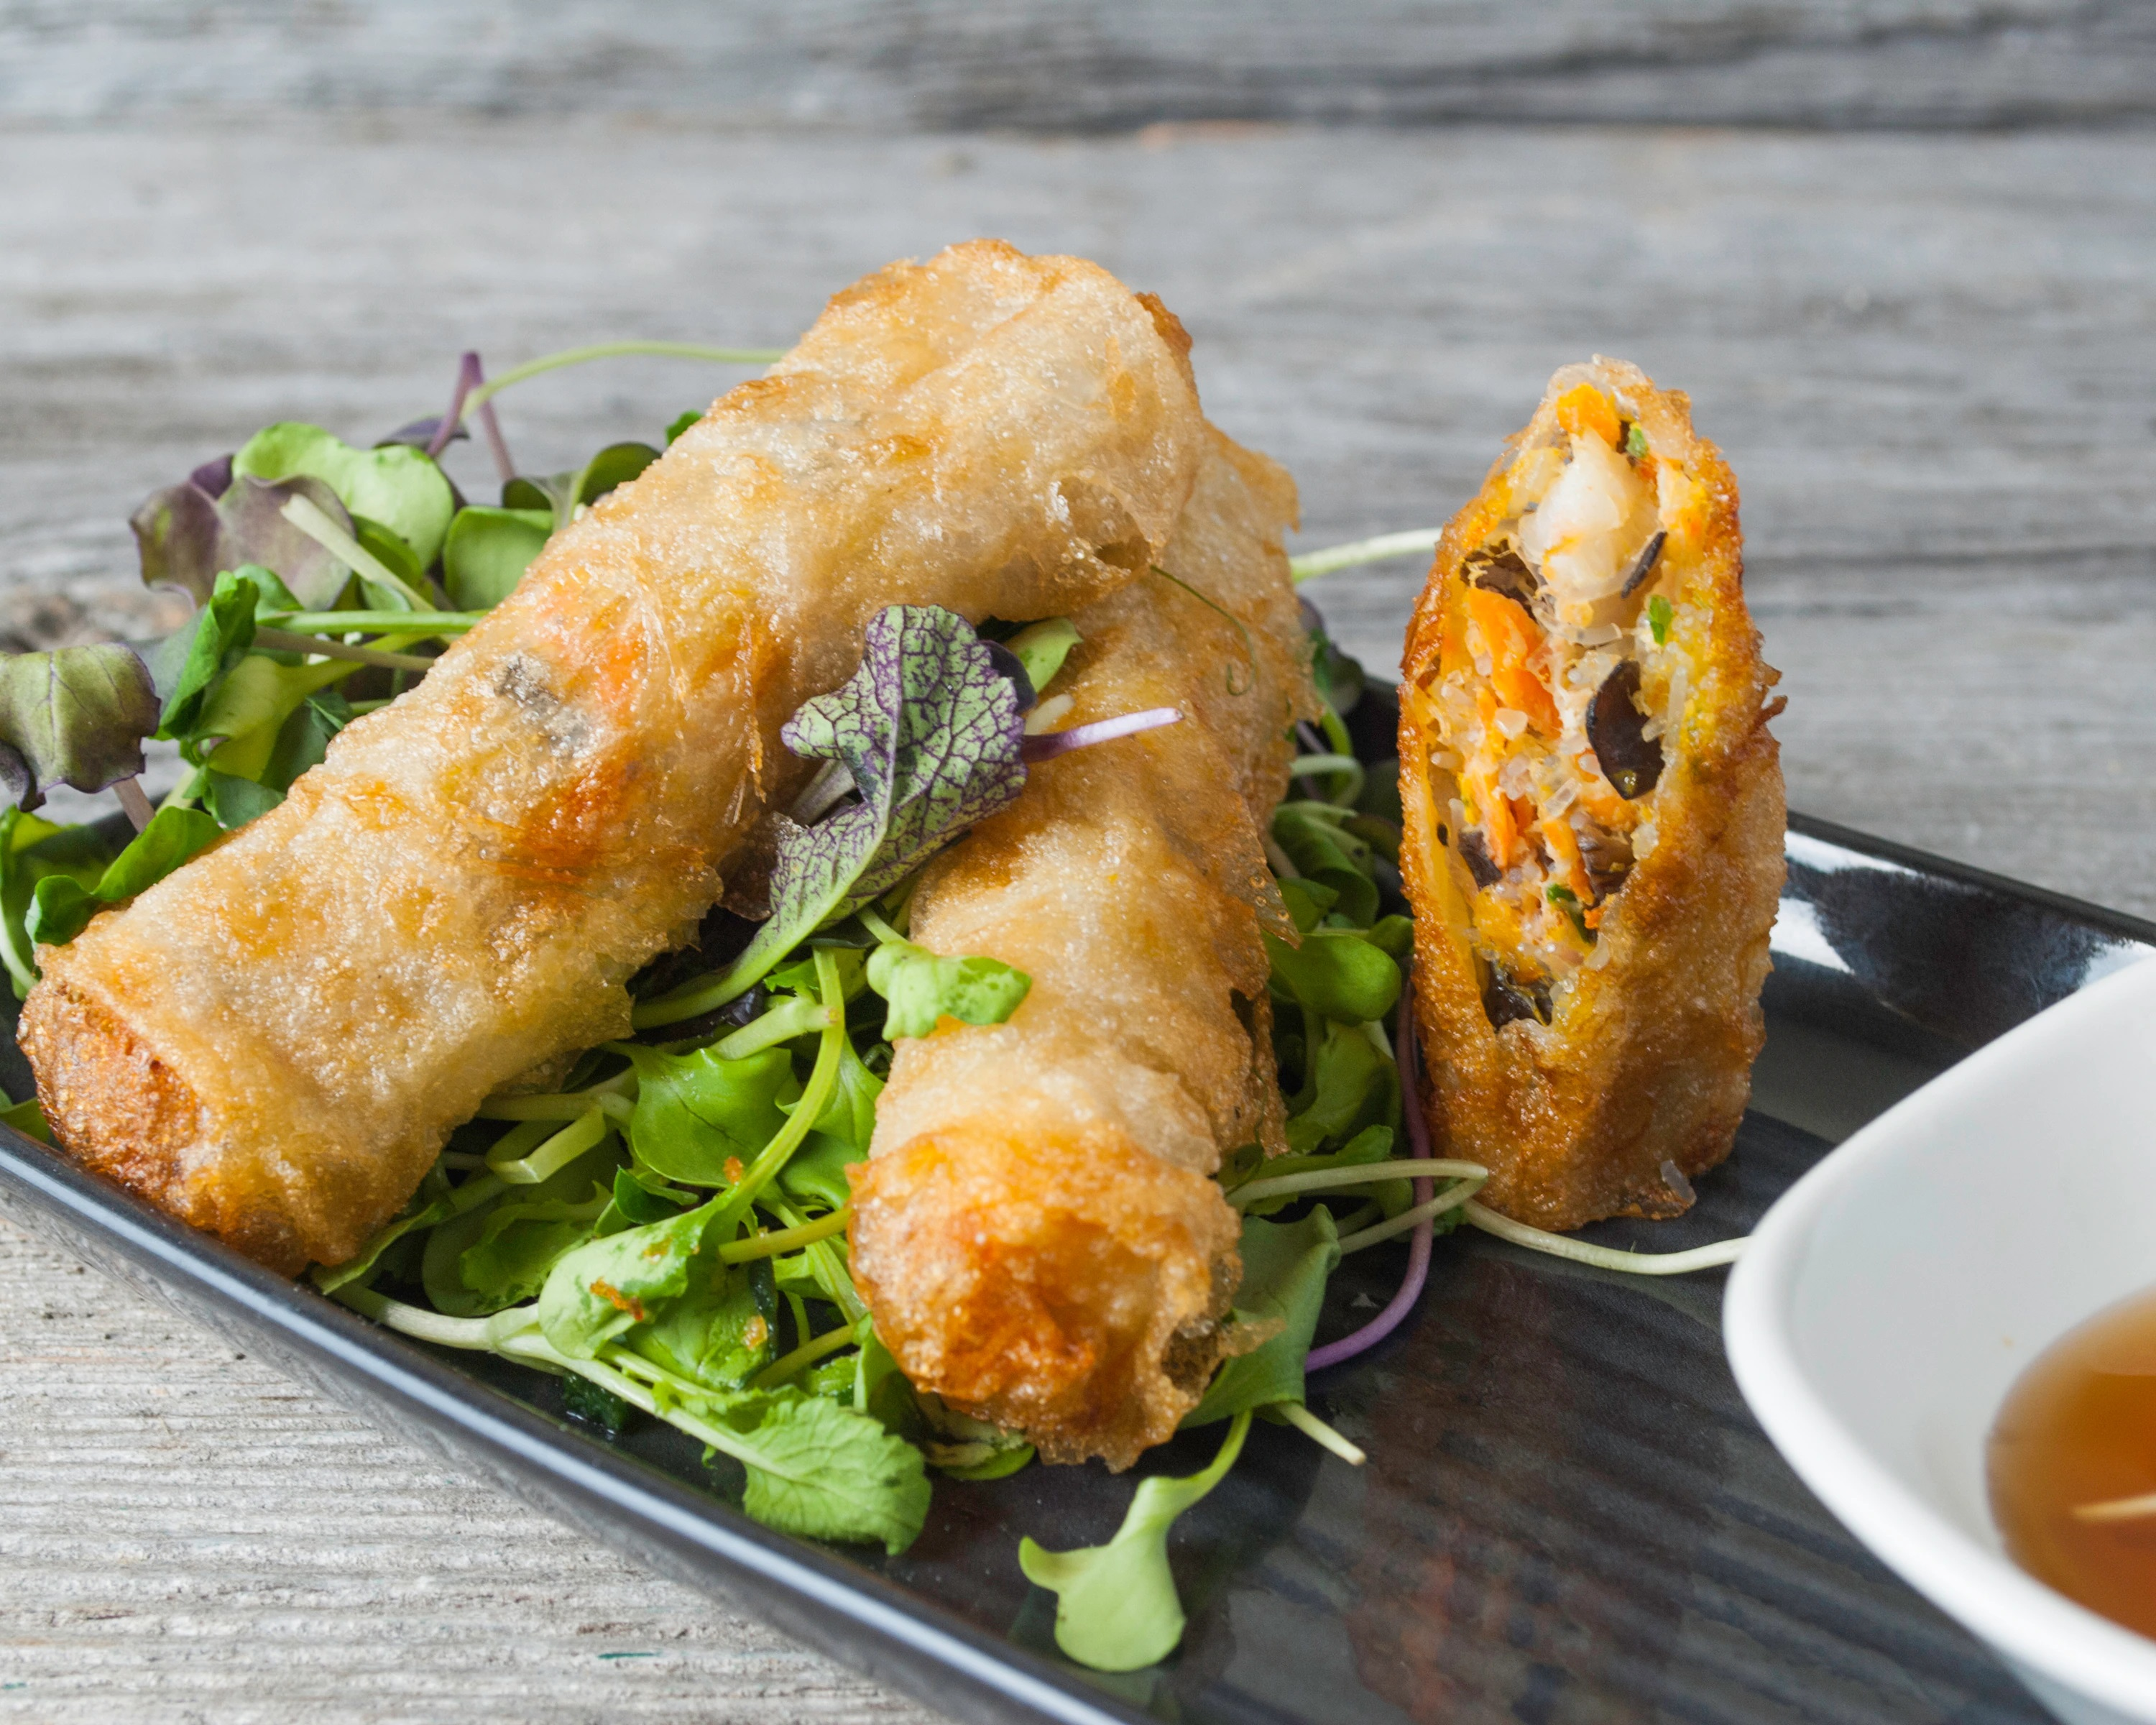spring_rolls: (16, 164, 1800, 1482)
